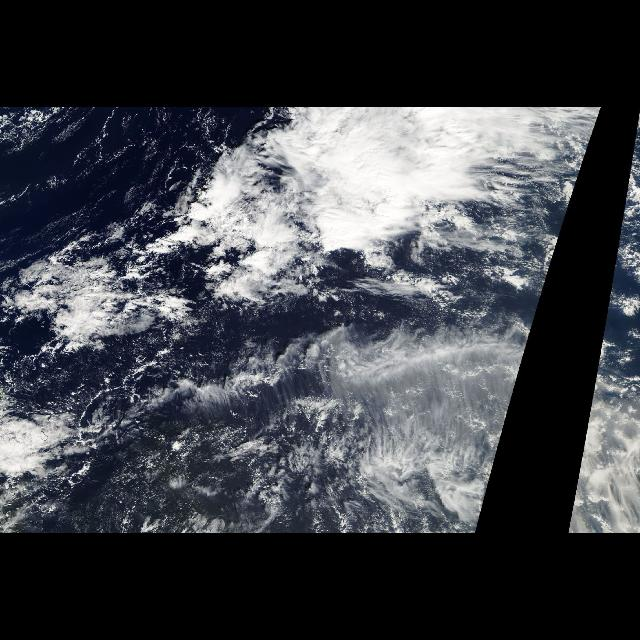Fish: (38, 142, 592, 288), (104, 319, 536, 439), (582, 319, 620, 439), (611, 234, 619, 288)
Sugar: (1, 109, 171, 209), (136, 448, 290, 516)
